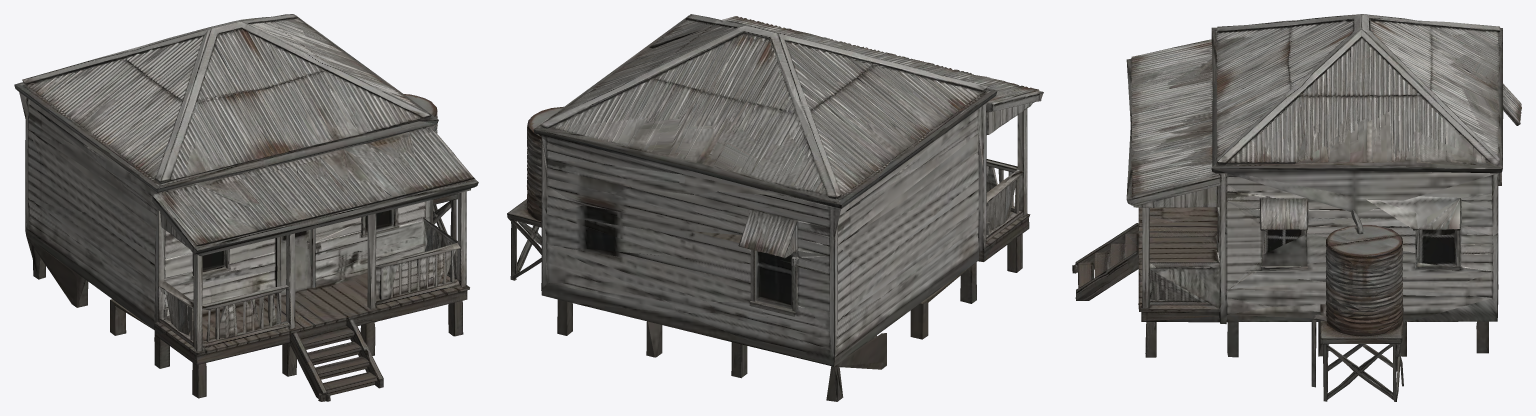
File: house_weatherboard.glb
3 renders of one model, left to right at view 1: azimuth 30°, elevation 25°; view 2: azimuth 150°, elevation 25°; view 3: azimuth 270°, elevation 25°, orthographic. The views are drawn at different scales.
Bounding box in the file's own units: 1.78 × 1.28 × 1.9.
1 material, 1 textured.
